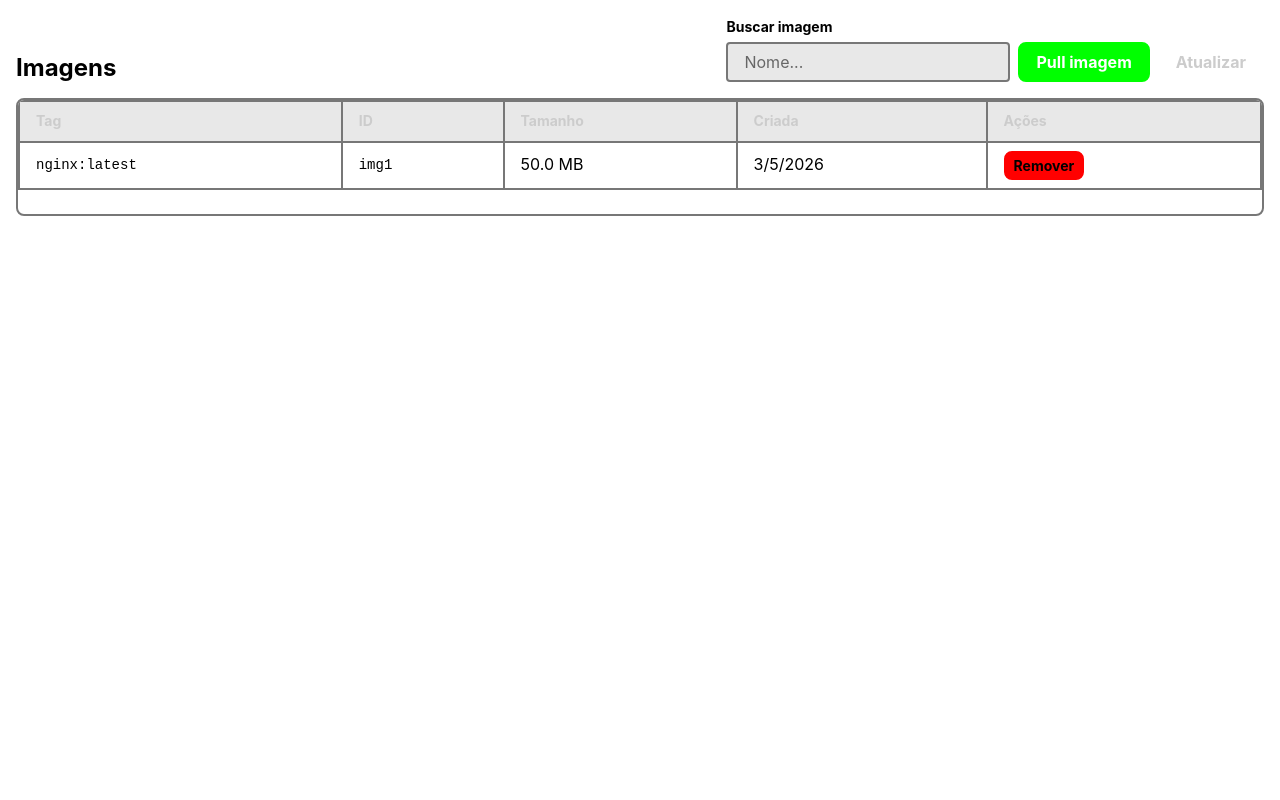
Test: Images › cancel button on pull image modal closes it
Click the button with test id "pull-btn".
click(1084, 62)  # box 1018,42 -> 1150,82
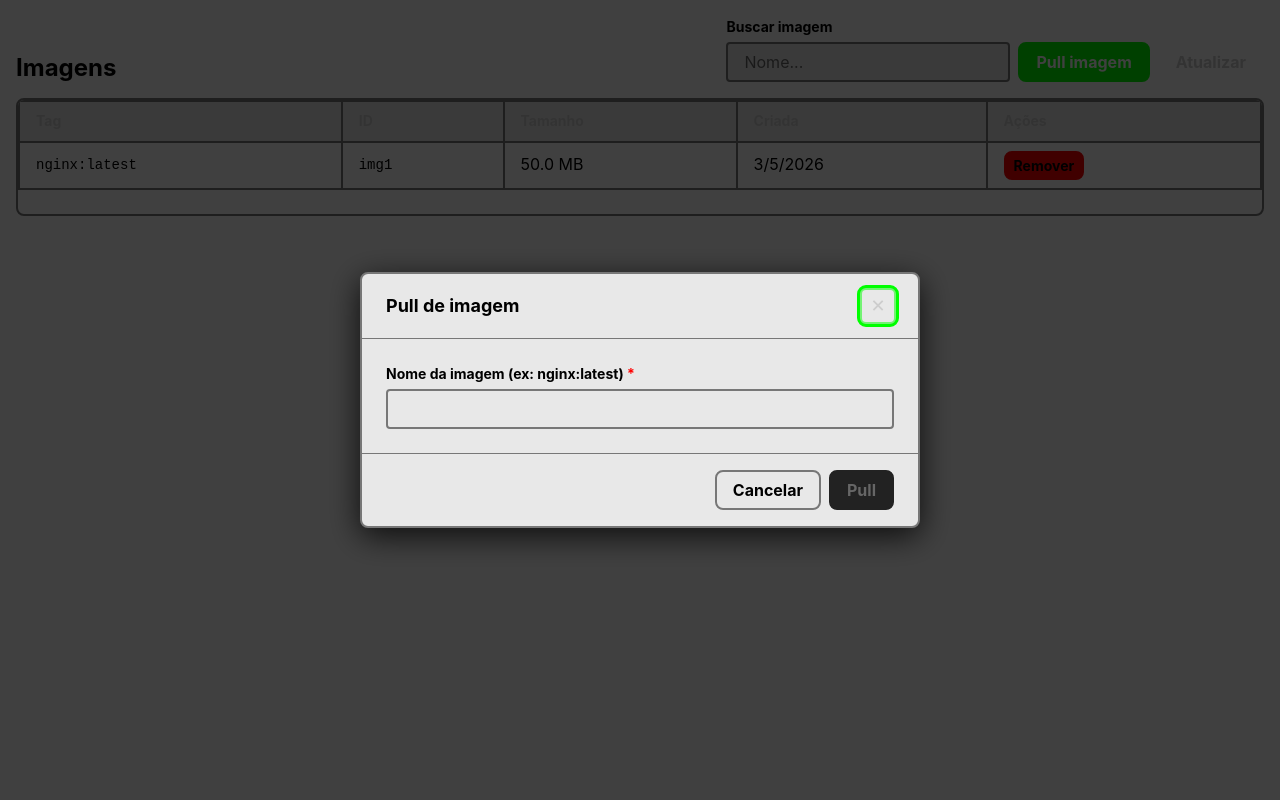
Now the dialog "Pull de imagem" is shown, box 360,272 -> 920,528
Click the button "Cancelar".
click(768, 490)  # box 715,470 -> 821,510
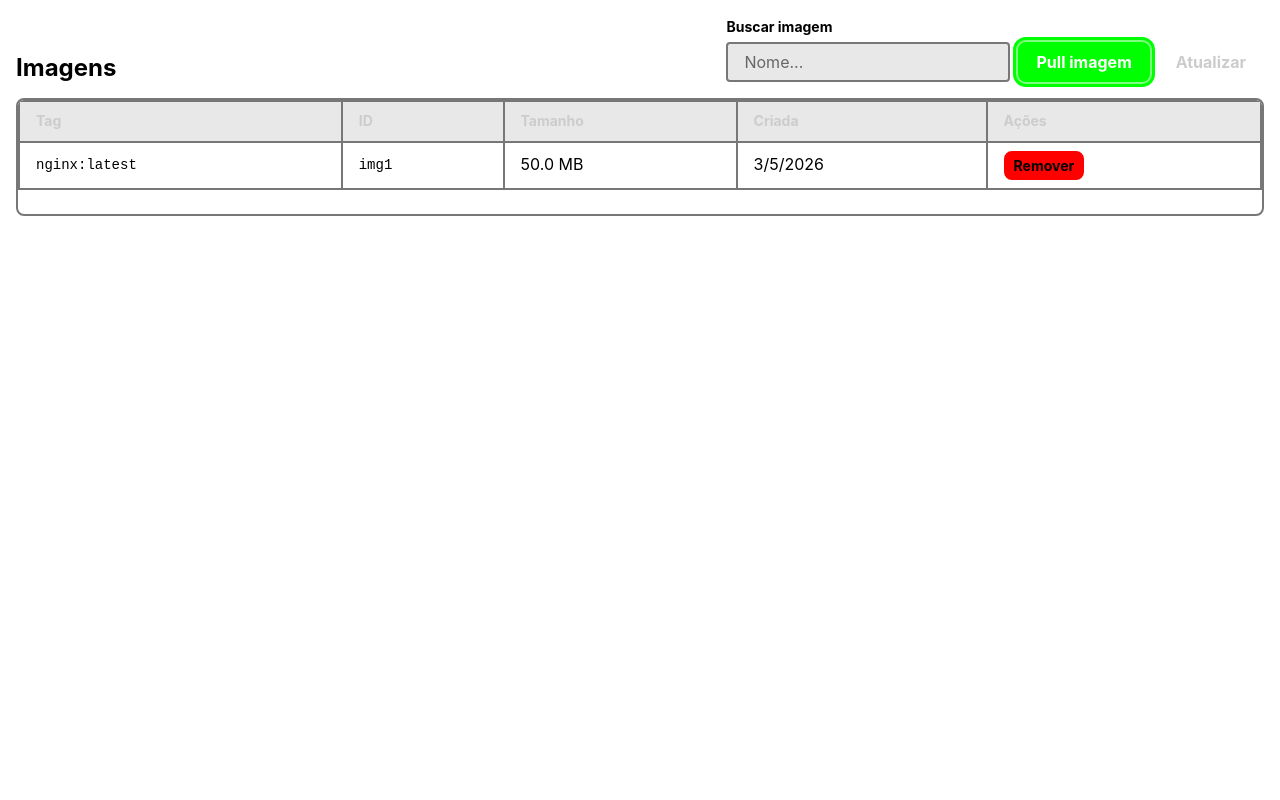
Now the heading "Pull de imagem" is gone
